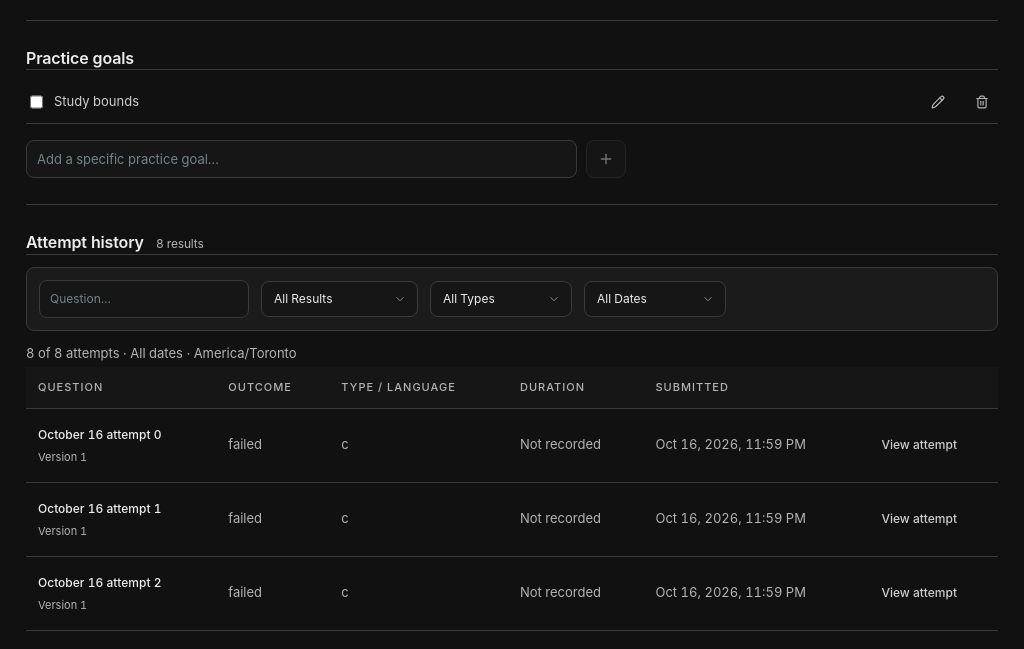
Scenario: filters since a calendar day in the displayed profile timezone, including midnight
(page scrolled)
Select "Since date" in the dropdown named "Attempt date range" at (655, 299), box [584,281,726,317]
(page scrolled)
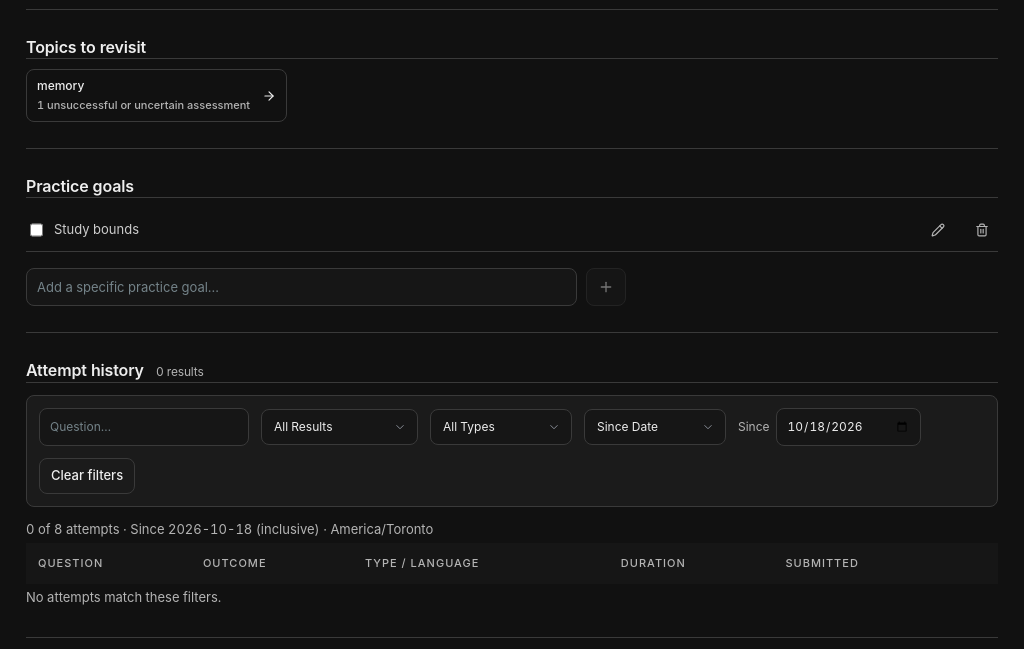
Type "2026-10-17" into the date field named "Attempts since" at (848, 427), box [776,408,920,446]
(page scrolled)
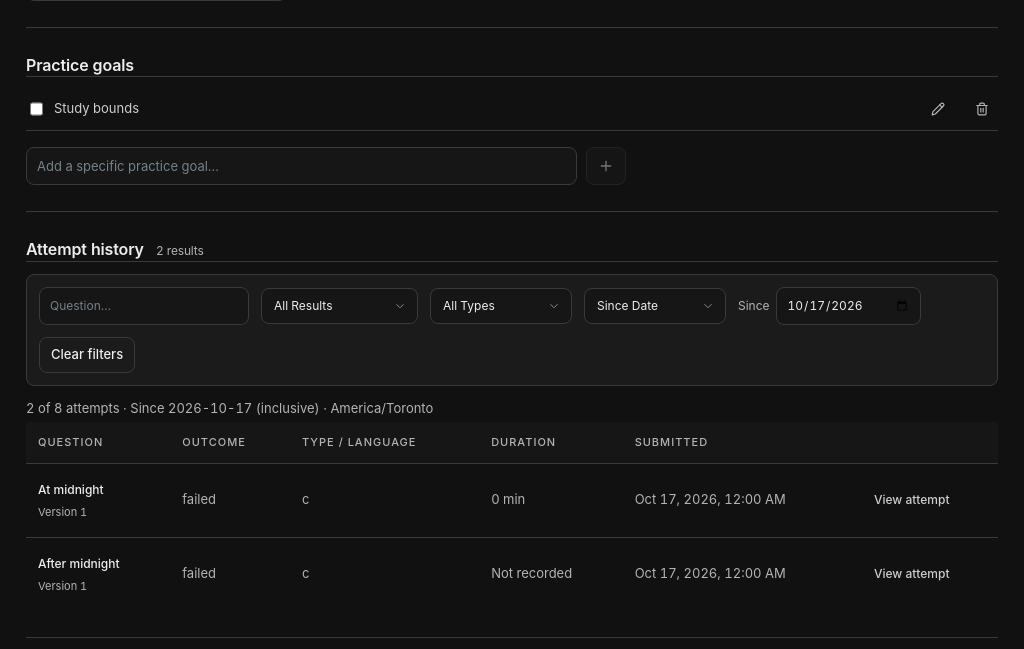
Expected: the text "At midnight" is shown, [38,482,104,497]
Expected: the text "2 of 8 attempts · Since 2026-10-17 (inclusive) · America/Toronto" is shown, [26,400,433,416]
Expected: the text "Not recorded" is shown, [479,537,623,611]
Type "2026-10-18" into the date field named "Attempts since" at (848, 306), box [776,287,920,325]
(page scrolled)
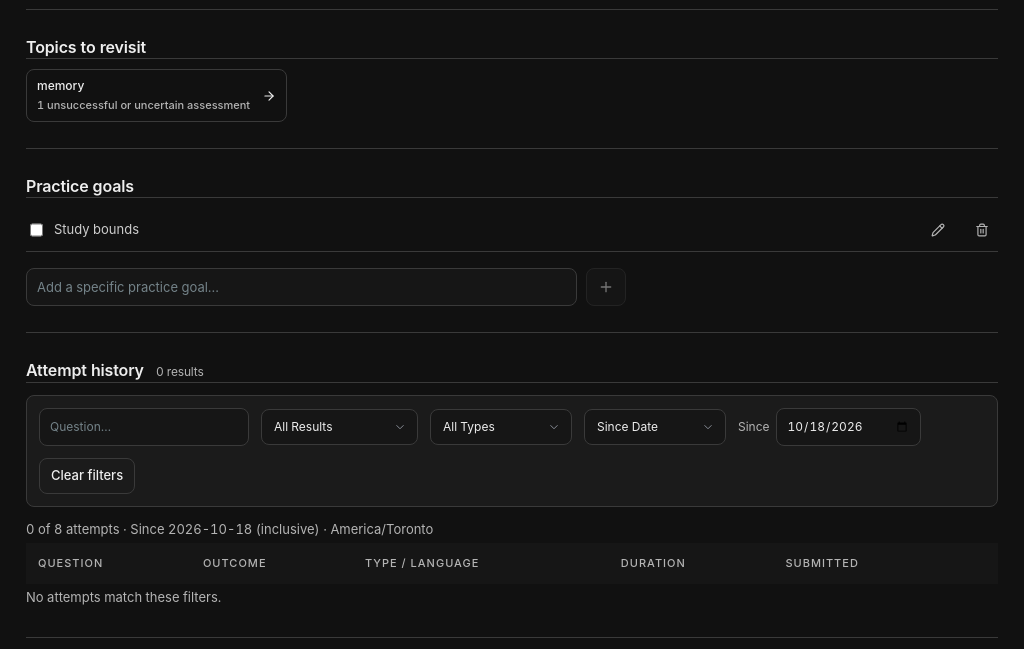
Expected: the text "No attempts match these filters." is shown, [26,589,221,605]
Click the button "Clear filters" at (87, 476), box [39,458,135,494]
(page scrolled)
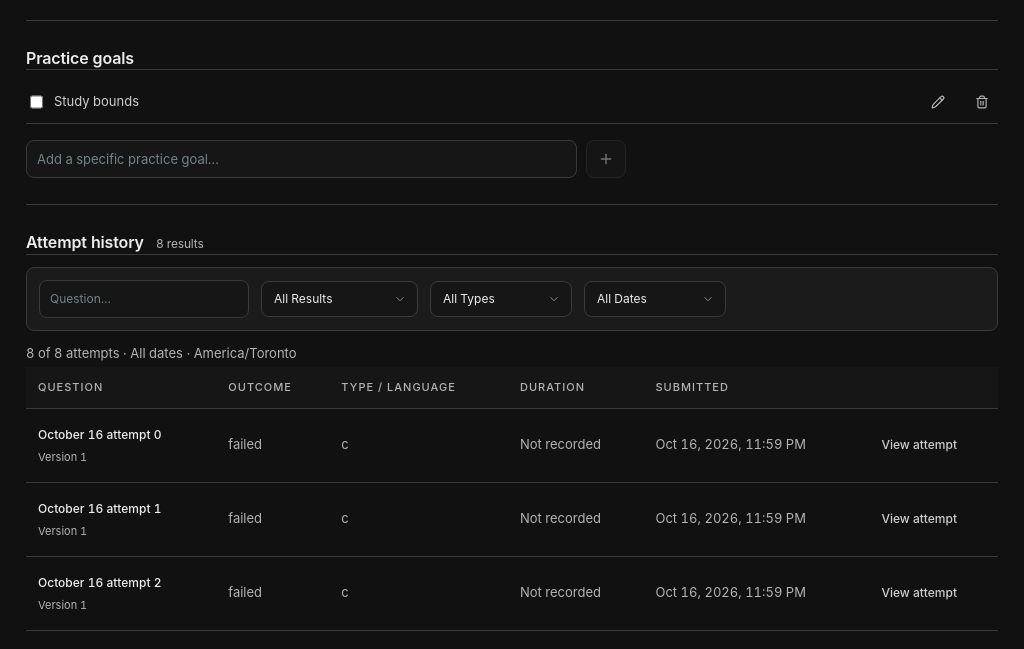
Expected: the date field labelled "Attempts since" is gone
